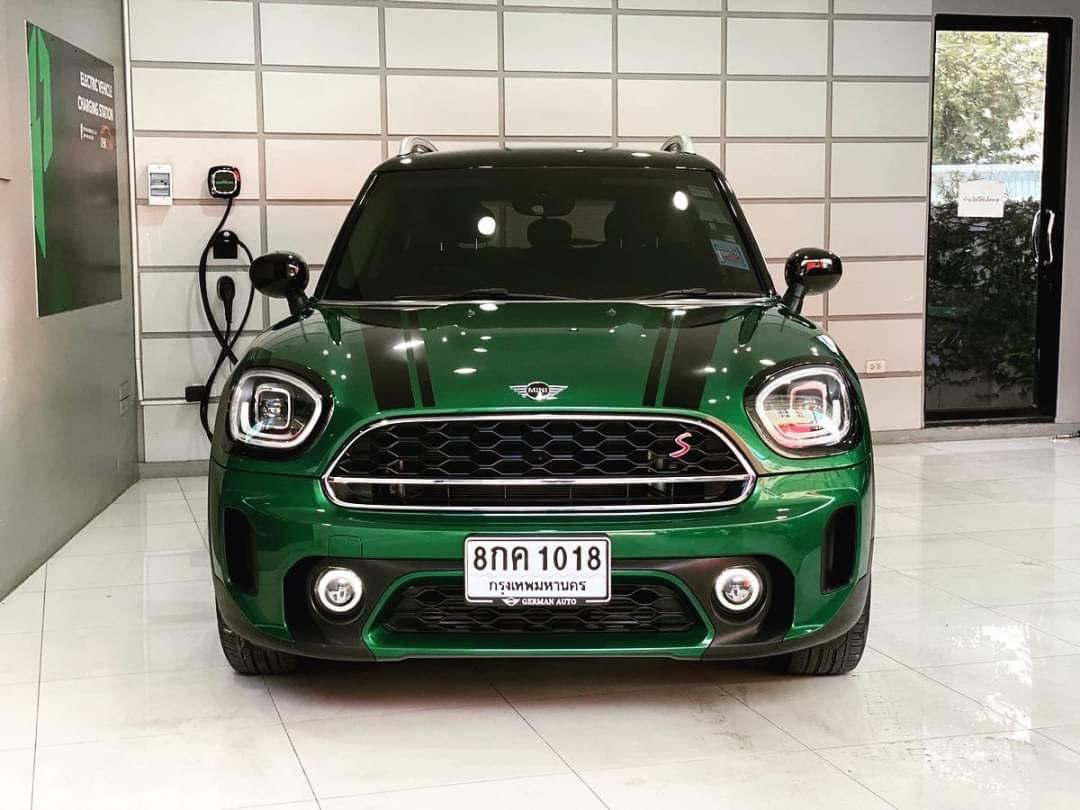license-plate: (460, 528, 617, 612)
